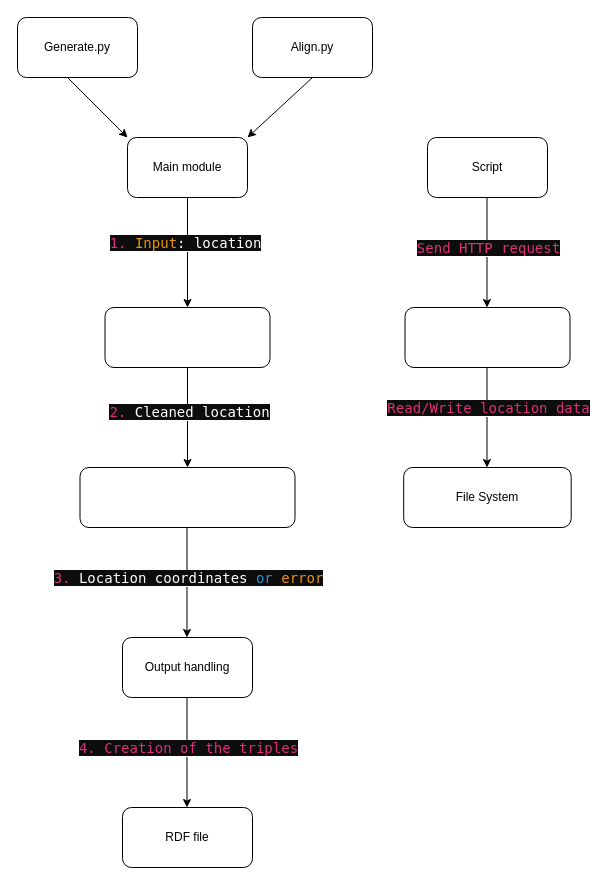
The diagram is 606 pixels wide and 885 high, and some of its shapes have lost their labels. The centre of each missing label's shape, as x and y in pixels:
"GeoNames API" goes at point 487,337.
"get_coordinates(cleaned_location)" goes at point 187,497.
"normalize_location(location)" goes at point 187,337.
